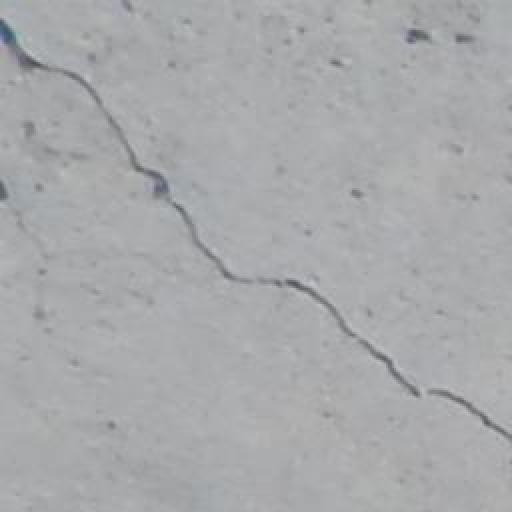spalling: (8, 13, 504, 459)
